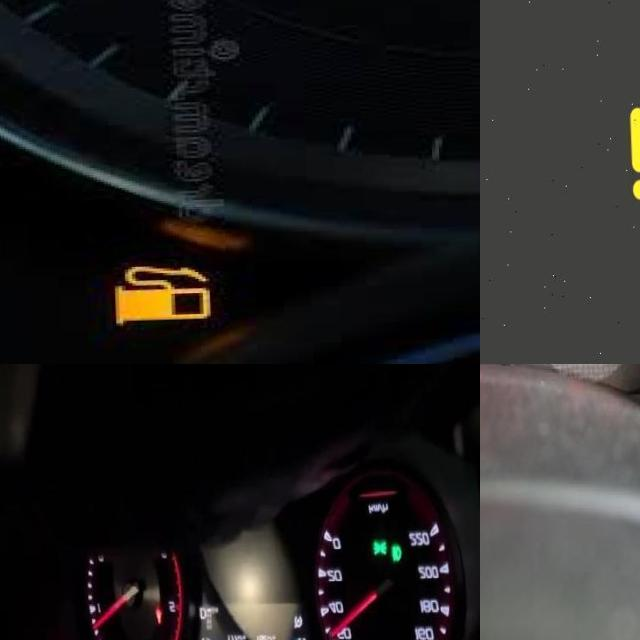Seat Belt: (152, 609, 160, 626)
